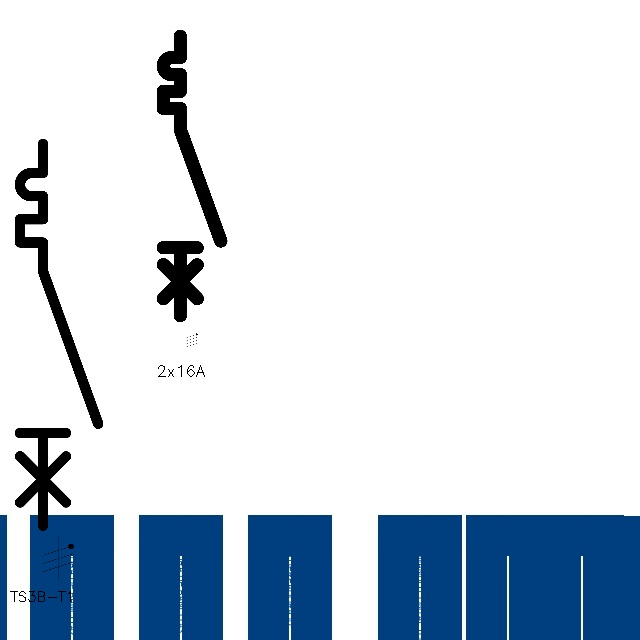interruptor_termomagnetico: (10, 134, 108, 536), (156, 29, 228, 323)
